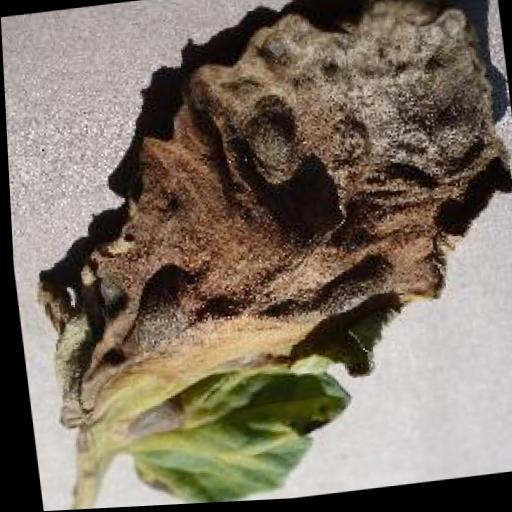Early Blight: (8, 0, 512, 512)
